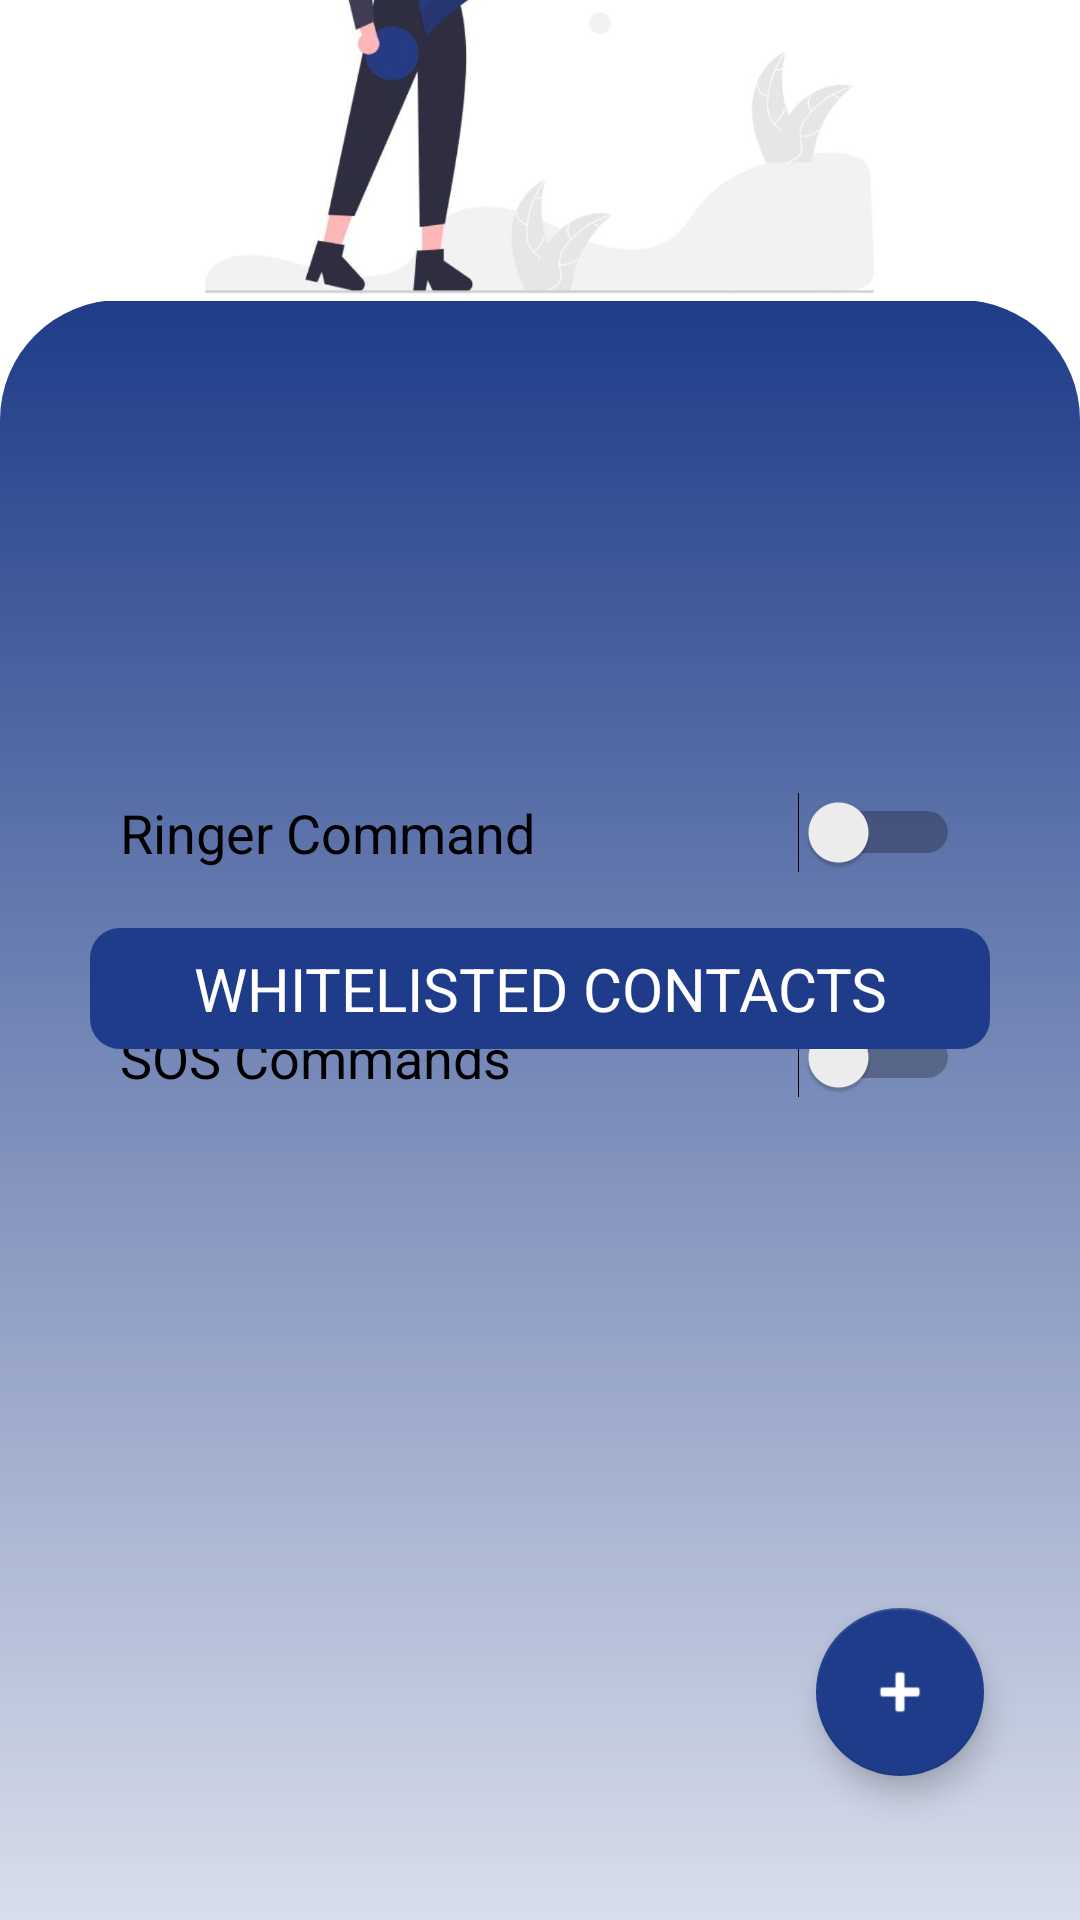

Named icons in this screenshot (1080 × 1920) and their bounding boxes, {"left": x1, "top": y1, "right": x2, "bottom": y2}:
add: {"left": 816, "top": 1608, "right": 984, "bottom": 1776}
